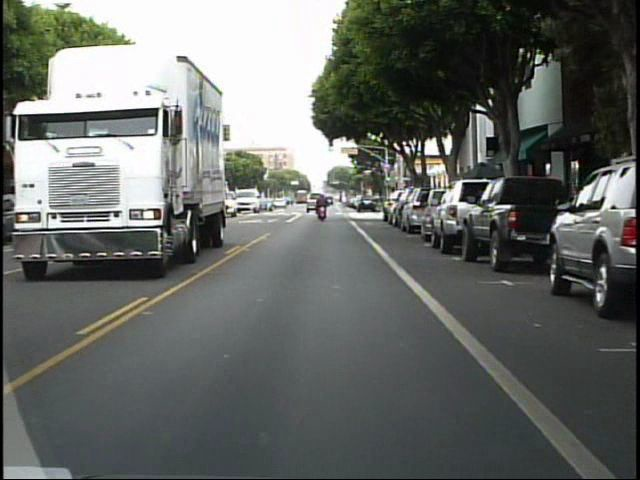person: (316, 192, 330, 223)
